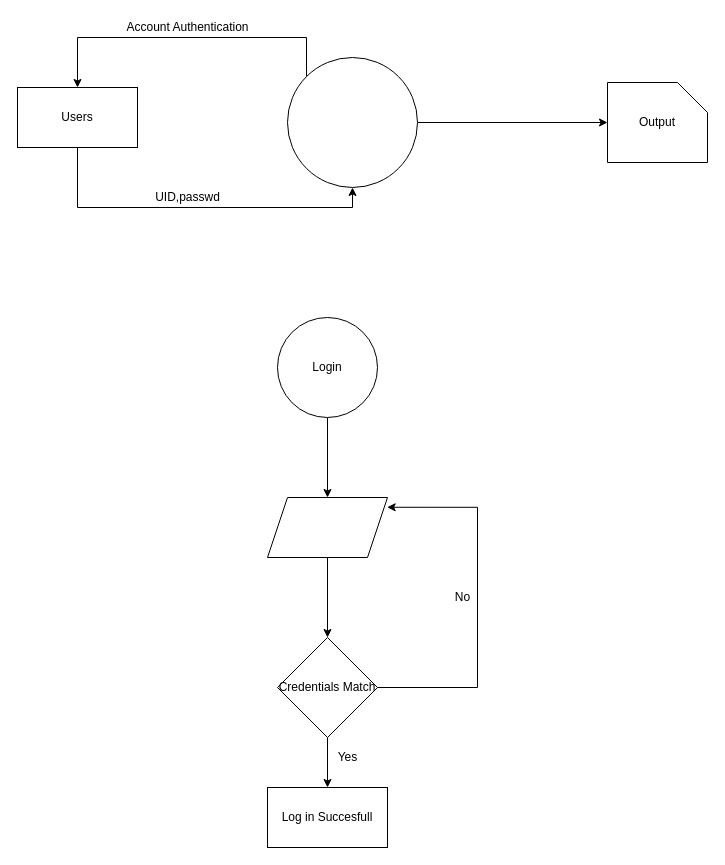
The diagram is 725 pixels wide and 865 high, and some of its shapes have lost their labels. The centre of each missing label's shape, as x and y in pixels:
Banking System: (x=352, y=122)
UID, Password: (x=327, y=527)
